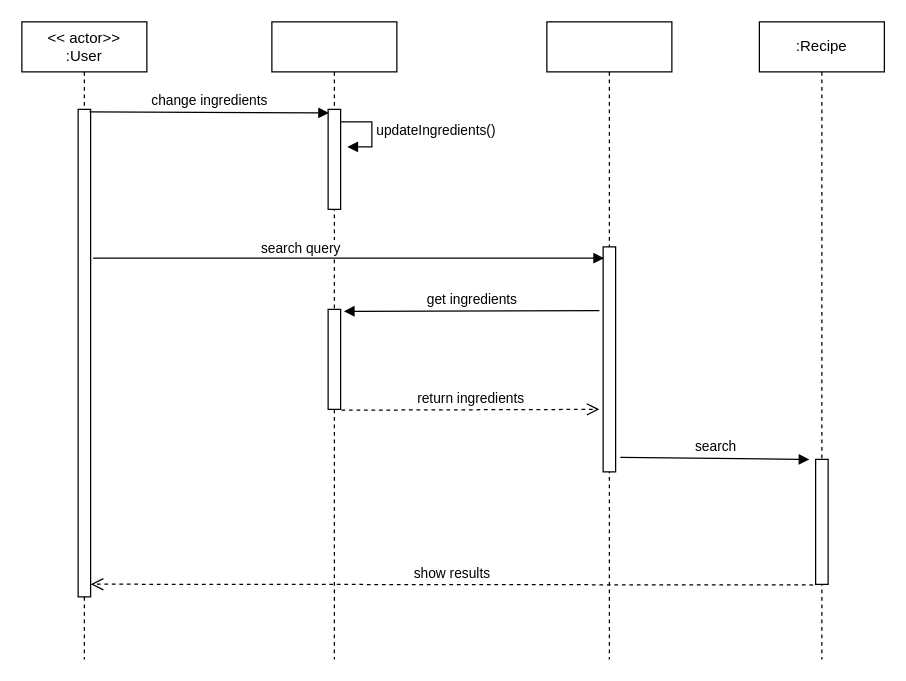
Some shapes in this 906 by 681 pixel diagram are drawn without their labels. The box of each missing label's shape, as (x1, y1, x2, y2) in pixels:
:Account: (271, 21, 397, 659)
:FindRecipe: (546, 21, 672, 659)
